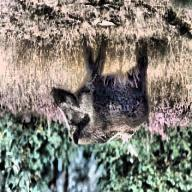boar: (45, 41, 159, 161)
